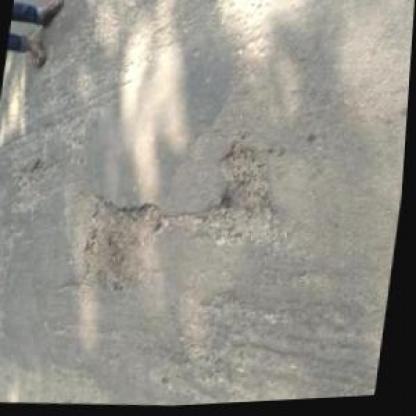pothole: (78, 194, 170, 301), (202, 147, 294, 251)
